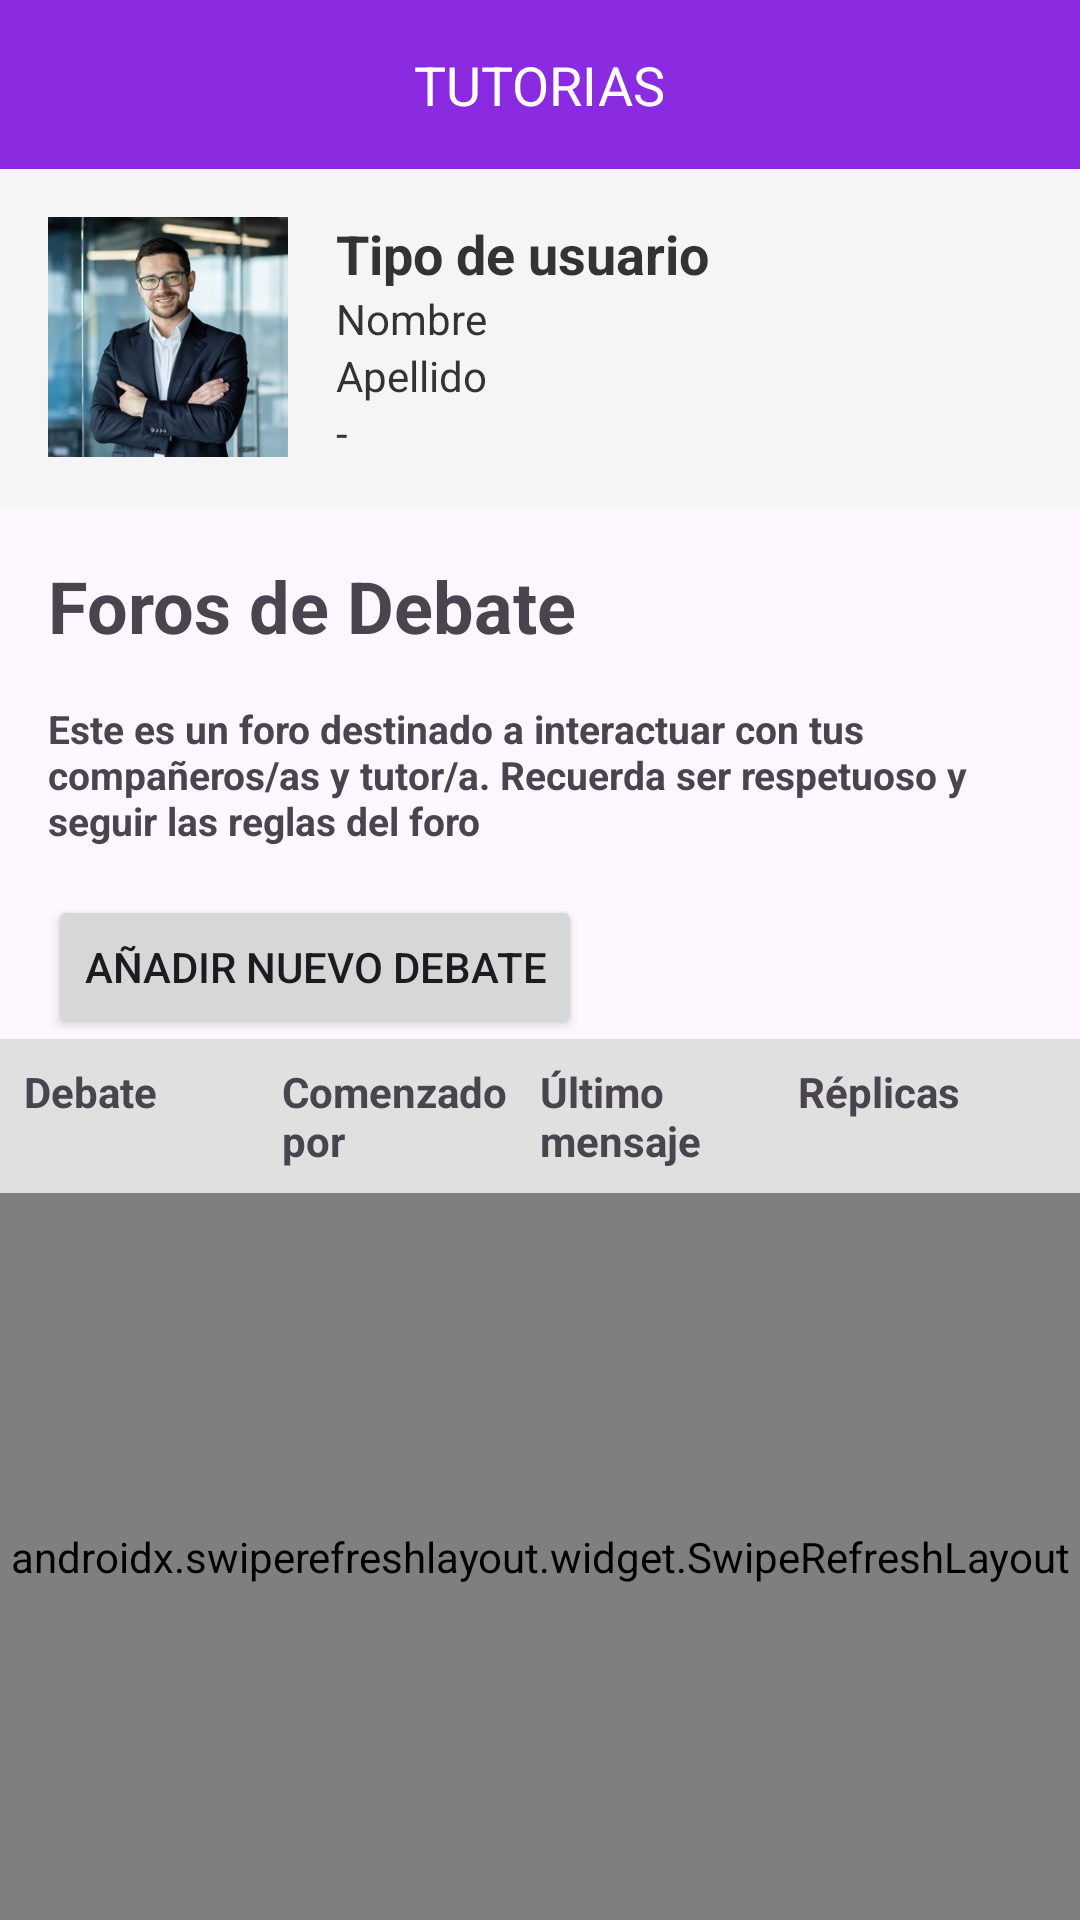

Screen size 1080x1920. Icon name, then its center in pixels as (x=x, y=y):
Foto del tutor: (x=168, y=337)
